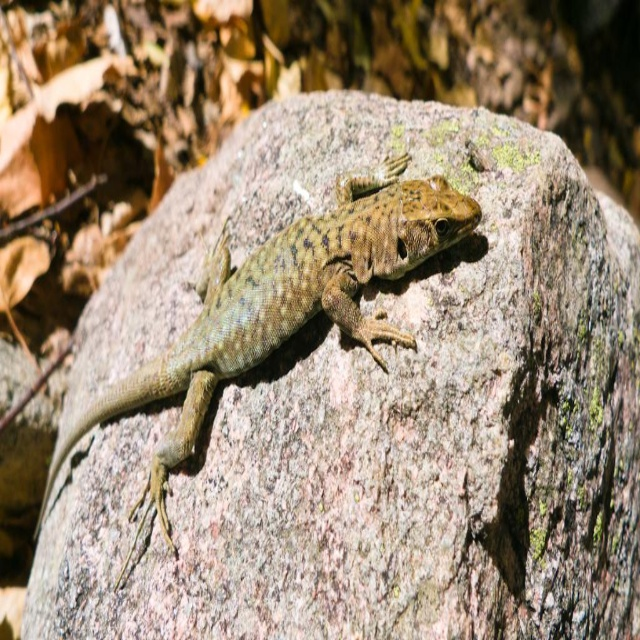Lizard: (34, 178, 479, 552)
